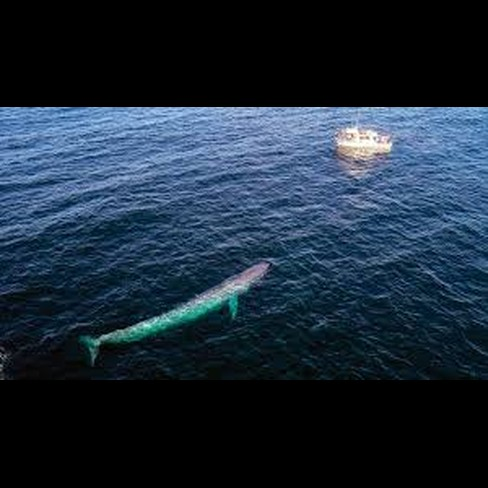bluewhale: (74, 259, 276, 367)
boat: (333, 121, 399, 168)
